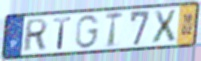7: (129, 10, 151, 47)
G: (75, 14, 101, 50)
R: (21, 17, 50, 54)
T: (104, 11, 124, 49), (53, 16, 73, 51)
X: (151, 8, 178, 45)
